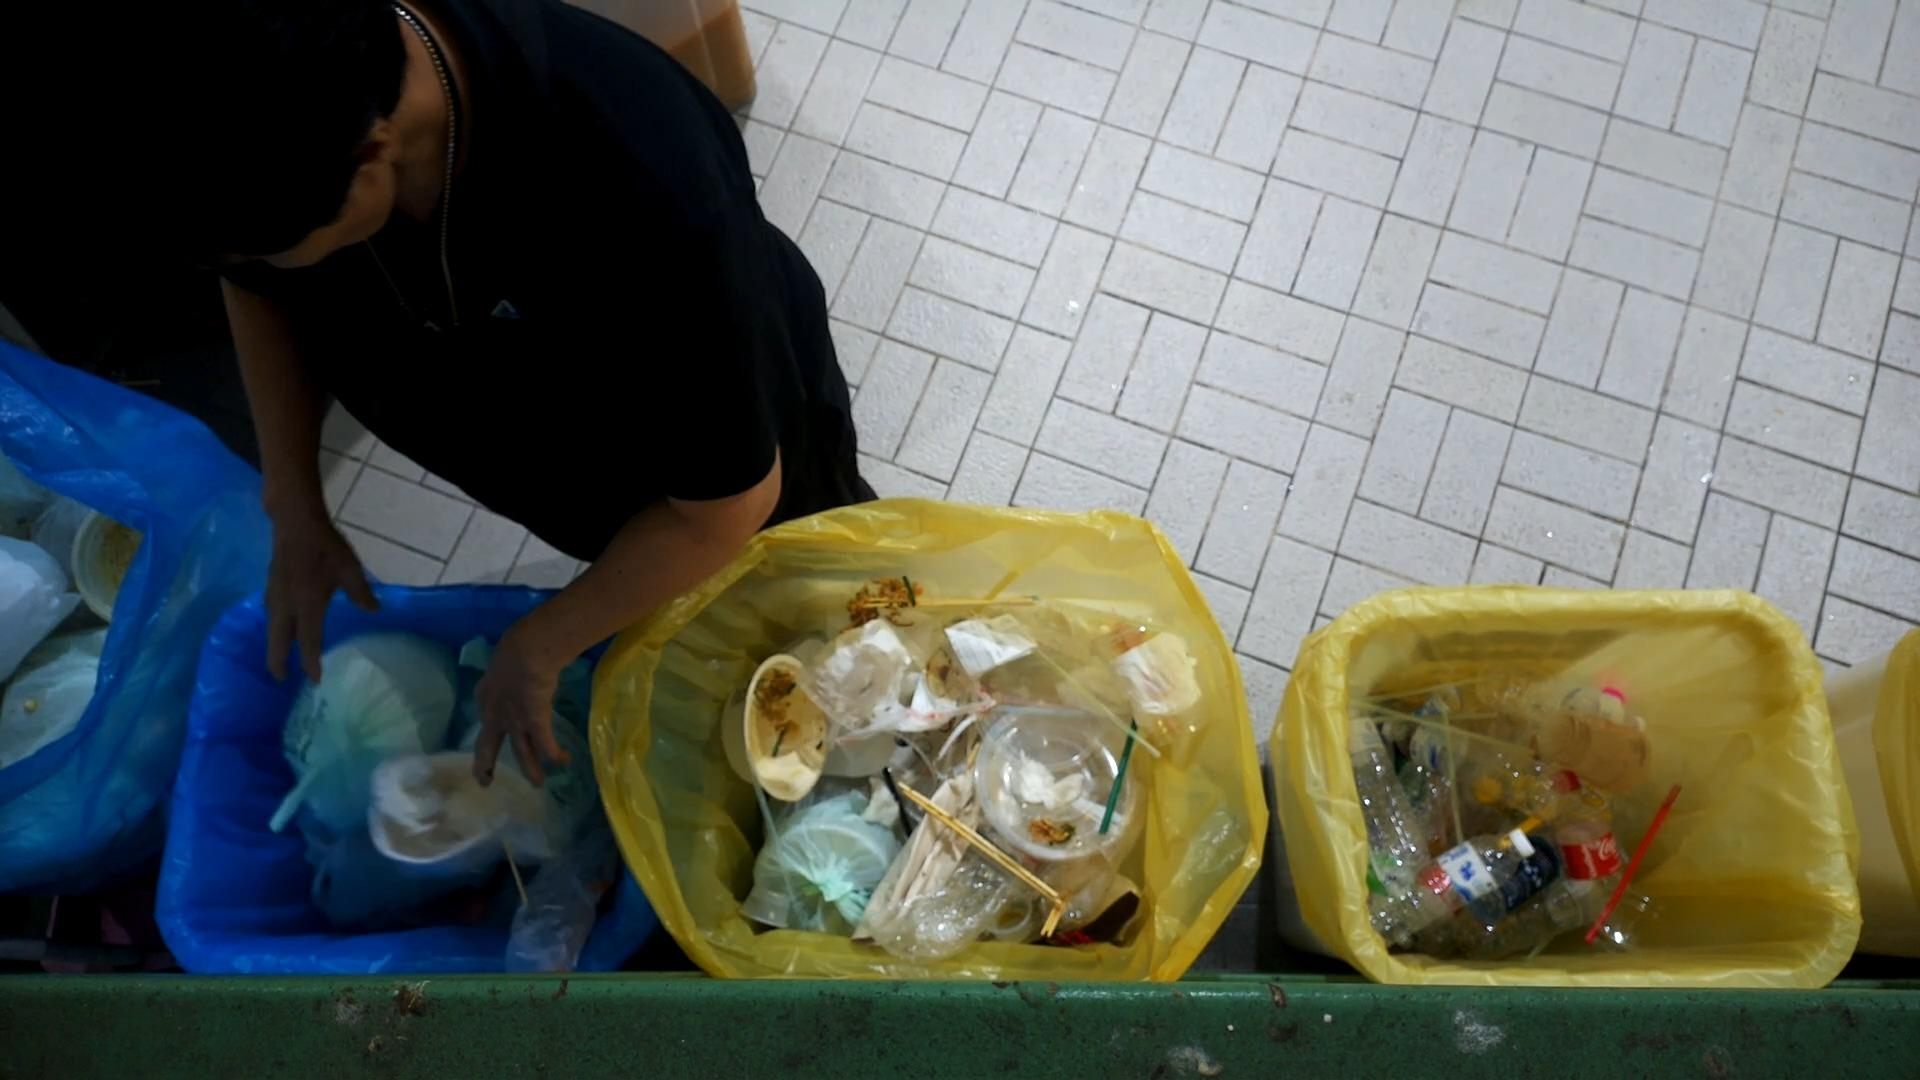dirty food container: (719, 653, 825, 804)
filled plastic bag: (264, 629, 462, 837), (787, 611, 1000, 786), (851, 785, 1017, 967), (737, 808, 899, 967), (463, 702, 597, 864)
food container: (361, 745, 524, 872), (965, 713, 1101, 851)
plastic bag: (500, 771, 630, 980)
plastic bottle: (1367, 824, 1542, 951), (1332, 696, 1436, 893), (1549, 765, 1629, 932)
plastic cup: (1095, 597, 1228, 735)
sticks: (903, 777, 1071, 918), (856, 589, 1043, 612)
straw: (1582, 783, 1687, 955), (1360, 690, 1543, 765), (1423, 690, 1482, 852), (1096, 716, 1141, 843)
tissue paper: (1004, 749, 1085, 823), (376, 757, 446, 835)
